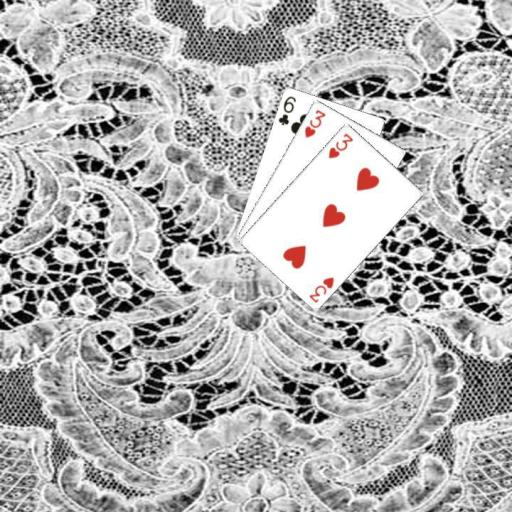3H: (306, 273, 336, 304), (325, 130, 355, 160), (302, 106, 327, 139)
6C: (275, 93, 297, 127)
